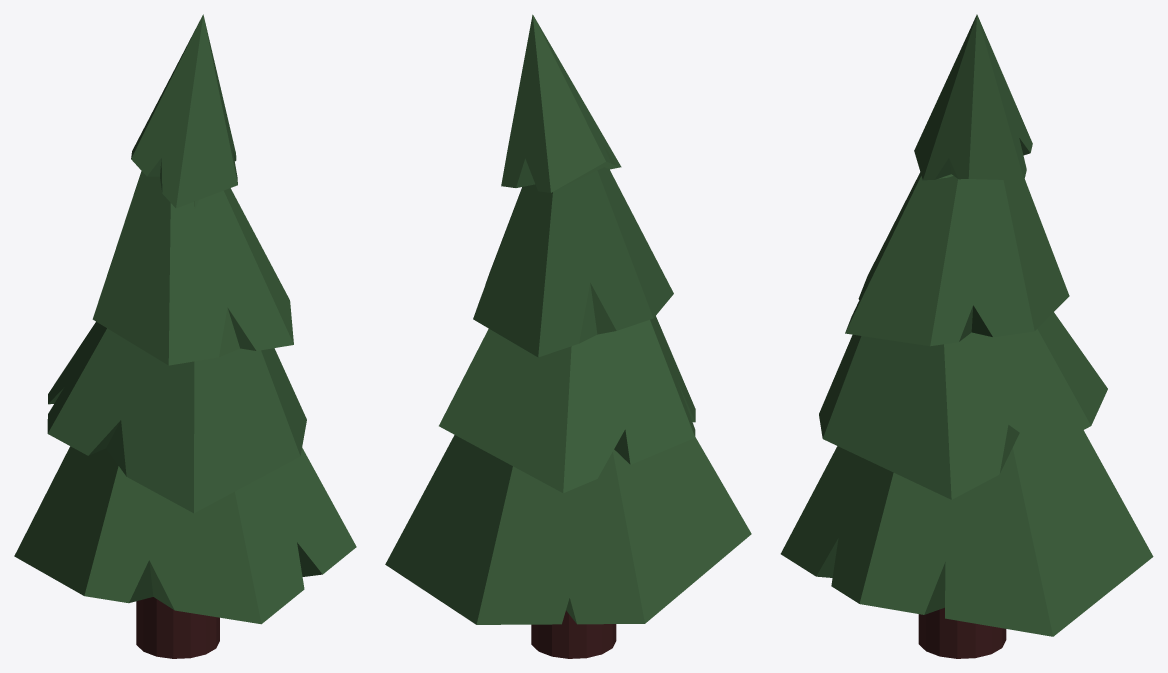
The picture shows the model from 3 angles, left to right: view 1: azimuth 30°, elevation 25°; view 2: azimuth 150°, elevation 25°; view 3: azimuth 270°, elevation 25°; orthographic projection. The views are drawn at different scales.
Parts seen in each view (by area): view 1: Cone.007, Cone.006, Cone.005, Cone.004, Cylinder.001; view 2: Cone.007, Cone.006, Cone.005, Cone.004, Cylinder.001; view 3: Cone.007, Cone.006, Cone.005, Cone.004, Cylinder.001.
Boxes of the visible parts, x1,y1,x2,y2 form: Cone.007: (14,446,356,624); Cone.006: (47,200,306,513); Cone.005: (92,171,293,365); Cone.004: (131,14,237,208); Cylinder.001: (136,597,219,658); Cone.007: (385,435,751,624); Cone.006: (439,316,695,493); Cone.005: (473,167,673,357); Cone.004: (501,14,621,192); Cylinder.001: (531,610,616,658); Cone.007: (780,430,1153,636); Cone.006: (819,312,1107,499); Cone.005: (845,172,1069,346); Cone.004: (914,14,1032,180); Cylinder.001: (918,607,1006,658).
Bounding box in the file's own units: 502 × 1068 × 561.
